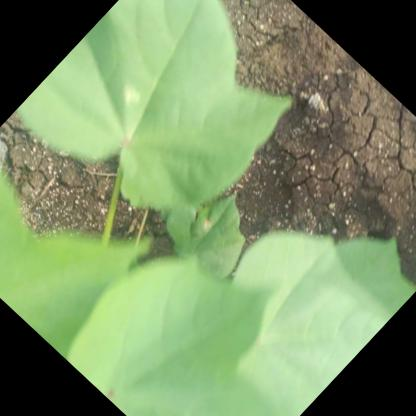cotton: (11, 0, 337, 257)
